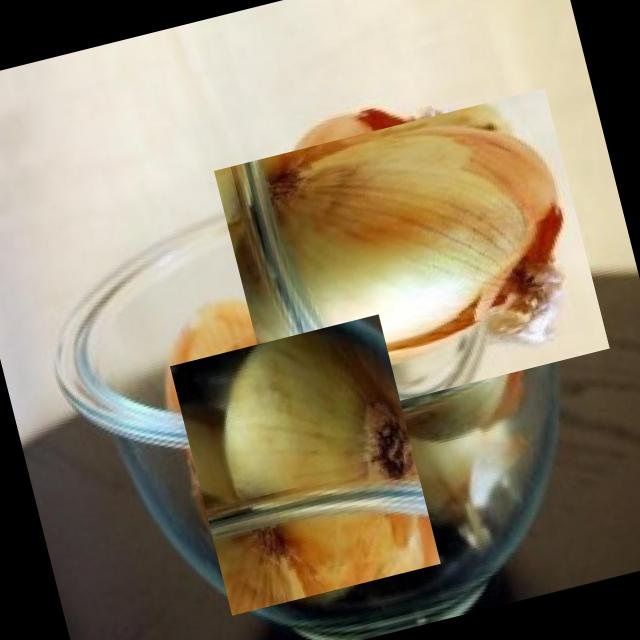Onion: (226, 74, 596, 444), (168, 312, 440, 616)
